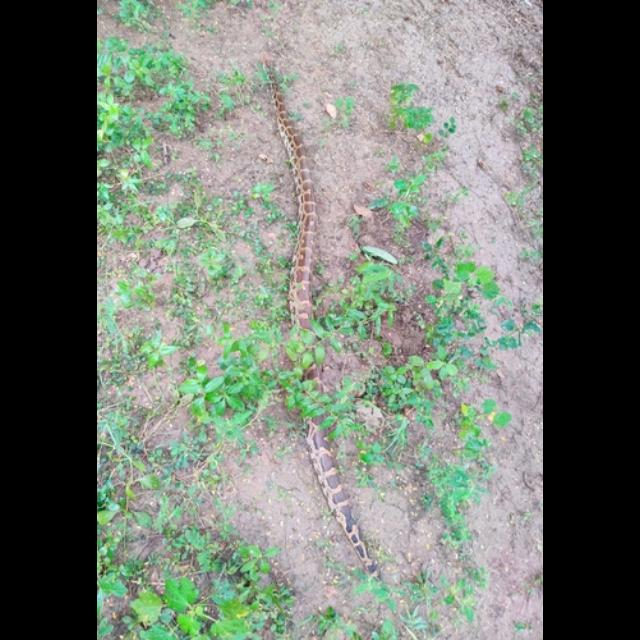snake: (260, 17, 404, 597)
